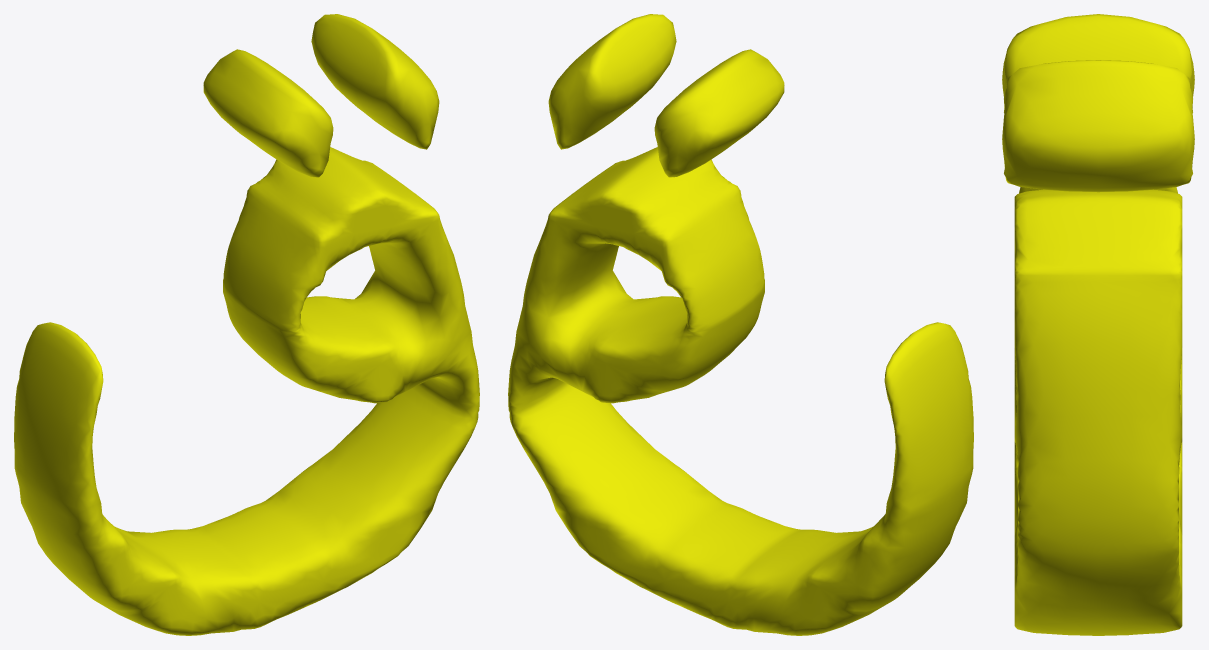
The picture shows the model from 3 angles, left to right: view 1: azimuth 30°, elevation 25°; view 2: azimuth 150°, elevation 25°; view 3: azimuth 270°, elevation 25°; orthographic projection. The views are drawn at different scales.
Visible parts, largest first — view 1: char_1; view 2: char_1; view 3: char_1.
Boxes of the visible parts, x1,y1,x2,y2 form: char_1: [14, 14, 479, 635]; char_1: [508, 14, 973, 635]; char_1: [1002, 14, 1194, 635].
Bounding box in the file's own units: 5.46 × 6.89 × 1.91.
